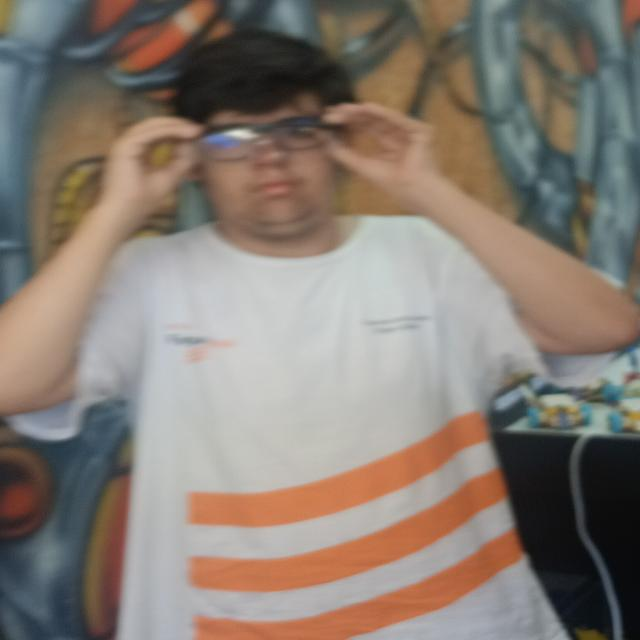oculos-epi: (192, 116, 346, 164)
